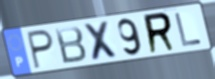9: (116, 17, 144, 58)
B: (53, 25, 88, 66)
L: (173, 11, 204, 48)
P: (25, 28, 55, 71)
R: (142, 10, 178, 56)
X: (81, 19, 122, 62)
